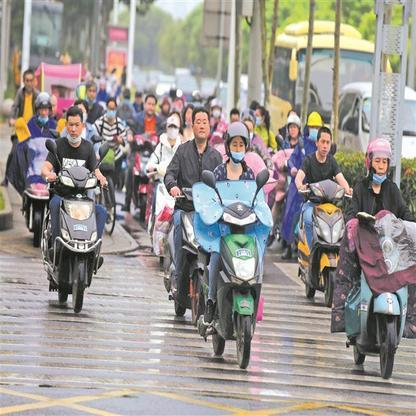target: (194, 121, 281, 373), (334, 136, 413, 379), (40, 104, 111, 317), (294, 125, 351, 308)
